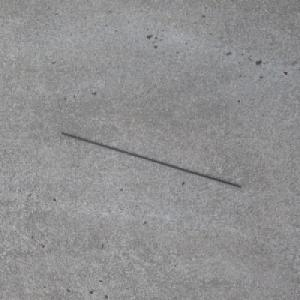LuggagePart: (59, 131, 243, 188)
